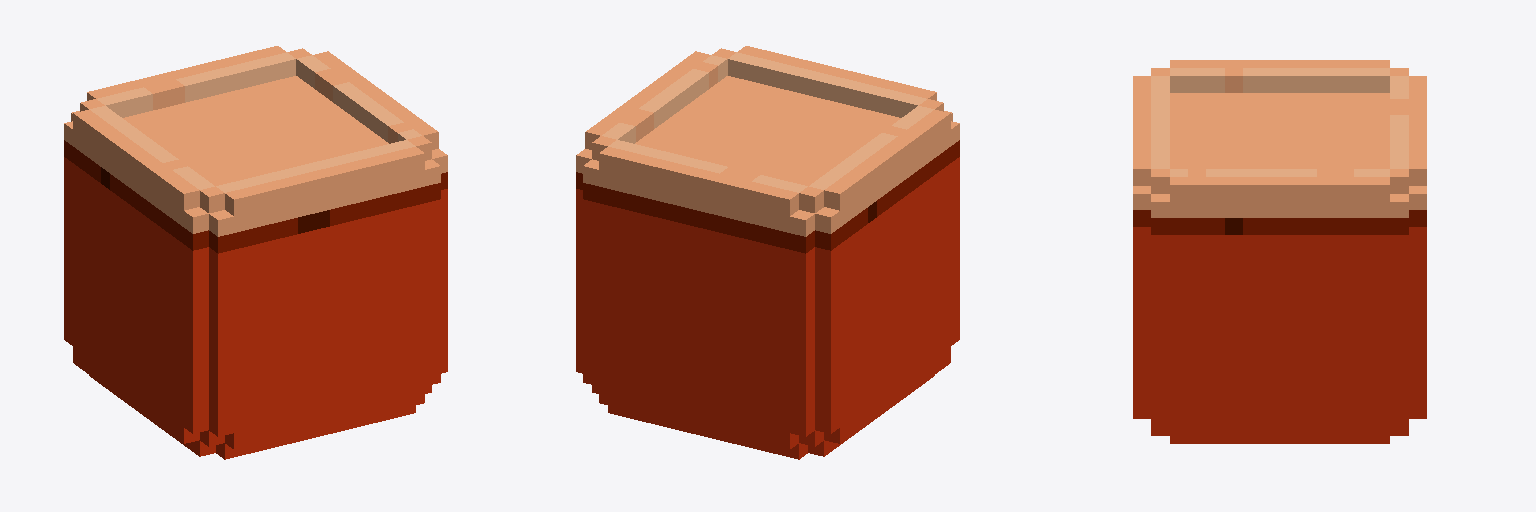
3 views of the same model, side by side, from view 1: azimuth 30°, elevation 25°; view 2: azimuth 150°, elevation 25°; view 3: azimuth 270°, elevation 25° (orthographic).
Parts seen in each view (by area): view 1: object 1; view 2: object 1; view 3: object 1.
Part boxes in pixels (x1,y1,x2,y2): object 1: (64,46,447,459); object 1: (576,46,959,459); object 1: (1133,60,1426,443).
Size of the model in its own units: 1.6 by 1.6 by 1.6.
1 materials, 1 textured.